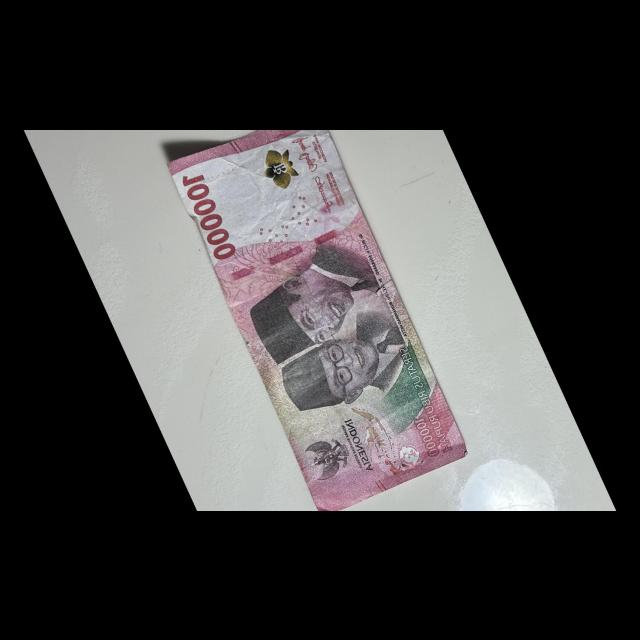Palsu-100k: (162, 94, 475, 522)
Tinta-Palsu-100k: (255, 141, 303, 194)
